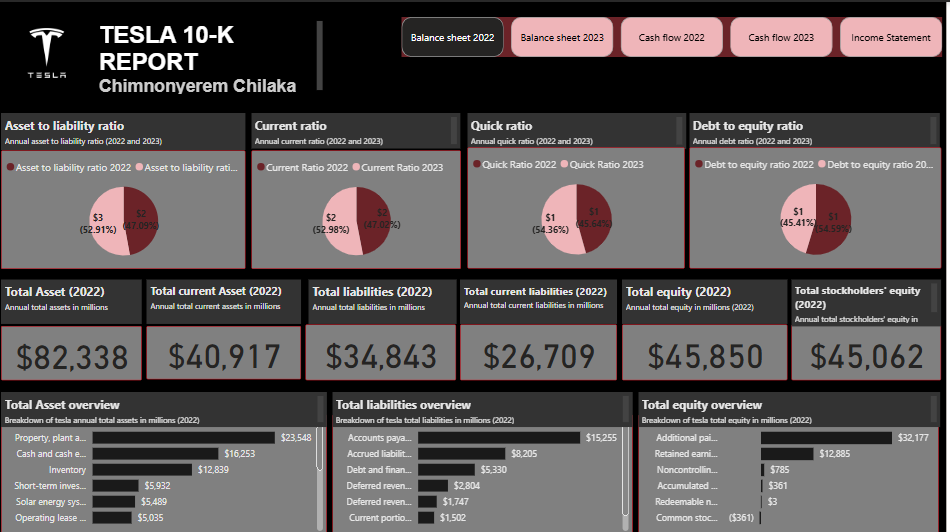

Layout of this report page (visuals, bound fields, positions):
{"tool":"powerbi","page":{"name":"Balance sheet 2022","canvas":[1280,720],"ordinal":0},"visuals":[{"type":"image","box":[0,0,132.4,137.9],"z":0},{"type":"textbox","box":[131.6,20.3,311.9,107.3],"z":1000},{"type":"pieChart","fields":{"Y":["balance_sheet.Asset to liability ratio 2022","balance_sheet.Asset to liability ratio 2023"]},"box":[5,200,330,160],"z":2000},{"type":"textbox","box":[5,150,330,50],"z":3000},{"type":"textbox","box":[342,150,282,48],"z":4000},{"type":"textbox","box":[633.3,150,295,48.3],"z":5000},{"type":"textbox","box":[934,150,338,48],"z":6000},{"type":"card","fields":{"Values":["balance_sheet.Total Assets 2022"]},"box":[5,436.7,190,73.3],"z":7000},{"type":"textbox","box":[5,375,190,60],"z":8000},{"type":"textbox","box":[200,375,208.3,60],"z":9000},{"type":"textbox","box":[418.3,375,200,60],"z":10000},{"type":"card","fields":{"Values":["balance_sheet.Total current assets 2022"]},"box":[200,438.3,208.3,71.7],"z":11000},{"type":"card","fields":{"Values":["balance_sheet.Total liabilities 2022"]},"box":[415,435,203.3,75],"z":12000},{"type":"card","fields":{"Values":["balance_sheet.Total current liabilities 2022"]},"box":[623.3,435,211.7,75],"z":13000},{"type":"textbox","box":[623.3,375,211.7,60],"z":14000},{"type":"card","fields":{"Values":["balance_sheet.Total equity 2022"]},"box":[841.7,435,223.3,75],"z":15000},{"type":"textbox","box":[841.7,375,223.3,60],"z":16000},{"type":"card","fields":{"Values":["balance_sheet.Total stockholder's equity 2022"]},"box":[1071.7,435,201.7,75],"z":17000},{"type":"textbox","box":[1071.7,375,201.7,63.3],"z":18000},{"type":"clusteredBarChart","fields":{"Category":["balance_sheet.matric"],"Y":["balance_sheet.Total Assets 2022"]},"box":[5,557.5,440,162.5],"z":19000},{"type":"clusteredBarChart","fields":{"Category":["balance_sheet.matric"],"Y":["balance_sheet.Total liabilities 2022"]},"box":[452.5,557.5,405,162.5],"z":20000},{"type":"clusteredBarChart","fields":{"Category":["balance_sheet.matric"],"Y":["balance_sheet.Total equity 2022"]},"box":[865,557.5,405,162.5],"z":21000},{"type":"textbox","box":[5,527.5,440,47.5],"z":22000},{"type":"pieChart","fields":{"Y":["balance_sheet.Current Ratio 2022","balance_sheet.Current Ratio 2023"]},"box":[342.5,200,282.5,160],"z":23000},{"type":"pieChart","fields":{"Y":["balance_sheet.Debt to equity ratio 2022","balance_sheet.Debt to equity ratio 2023"]},"box":[933.3,196.7,340,163.3],"z":24000},{"type":"pieChart","fields":{"Y":["balance_sheet.Quick Ratio 2022","balance_sheet.Quick Ratio 2023"]},"box":[633.3,196.7,293.3,163.3],"z":25000},{"type":"textbox","box":[452.5,527.5,405,47.5],"z":26000},{"type":"textbox","box":[865,527.5,407.5,47.5],"z":27000},{"type":"pageNavigator","box":[544,20,730,54],"z":28000}]}

Visuals, with their boxes in screenshot pixels (x1, y1, x2, y2), scaled from the page's 1280x720 canvas onto the 950x532 screenshot:
image: 0, 0, 98, 102
textbox: 98, 15, 329, 94
pieChart - balance_sheet.Asset to liability ratio 2022 x balance_sheet.Asset to liability ratio 2023: 4, 148, 249, 266
textbox: 4, 111, 249, 148
textbox: 254, 111, 463, 146
textbox: 470, 111, 689, 147
textbox: 693, 111, 944, 146
card - balance_sheet.Total Assets 2022: 4, 323, 145, 377
textbox: 4, 277, 145, 321
textbox: 148, 277, 303, 321
textbox: 310, 277, 459, 321
card - balance_sheet.Total current assets 2022: 148, 324, 303, 377
card - balance_sheet.Total liabilities 2022: 308, 321, 459, 377
card - balance_sheet.Total current liabilities 2022: 463, 321, 620, 377
textbox: 463, 277, 620, 321
card - balance_sheet.Total equity 2022: 625, 321, 790, 377
textbox: 625, 277, 790, 321
card - balance_sheet.Total stockholder's equity 2022: 795, 321, 945, 377
textbox: 795, 277, 945, 324
clusteredBarChart - balance_sheet.matric x balance_sheet.Total Assets 2022: 4, 412, 330, 531
clusteredBarChart - balance_sheet.matric x balance_sheet.Total liabilities 2022: 336, 412, 636, 531
clusteredBarChart - balance_sheet.matric x balance_sheet.Total equity 2022: 642, 412, 943, 531
textbox: 4, 390, 330, 425
pieChart - balance_sheet.Current Ratio 2022 x balance_sheet.Current Ratio 2023: 254, 148, 464, 266
pieChart - balance_sheet.Debt to equity ratio 2022 x balance_sheet.Debt to equity ratio 2023: 693, 145, 945, 266
pieChart - balance_sheet.Quick Ratio 2022 x balance_sheet.Quick Ratio 2023: 470, 145, 688, 266
textbox: 336, 390, 636, 425
textbox: 642, 390, 944, 425
pageNavigator: 404, 15, 946, 55
